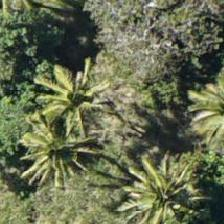coconut_tree: (30, 46, 120, 136), (16, 109, 106, 199), (128, 144, 218, 223)
